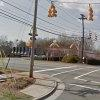Traffic light: (45, 2, 96, 28)
